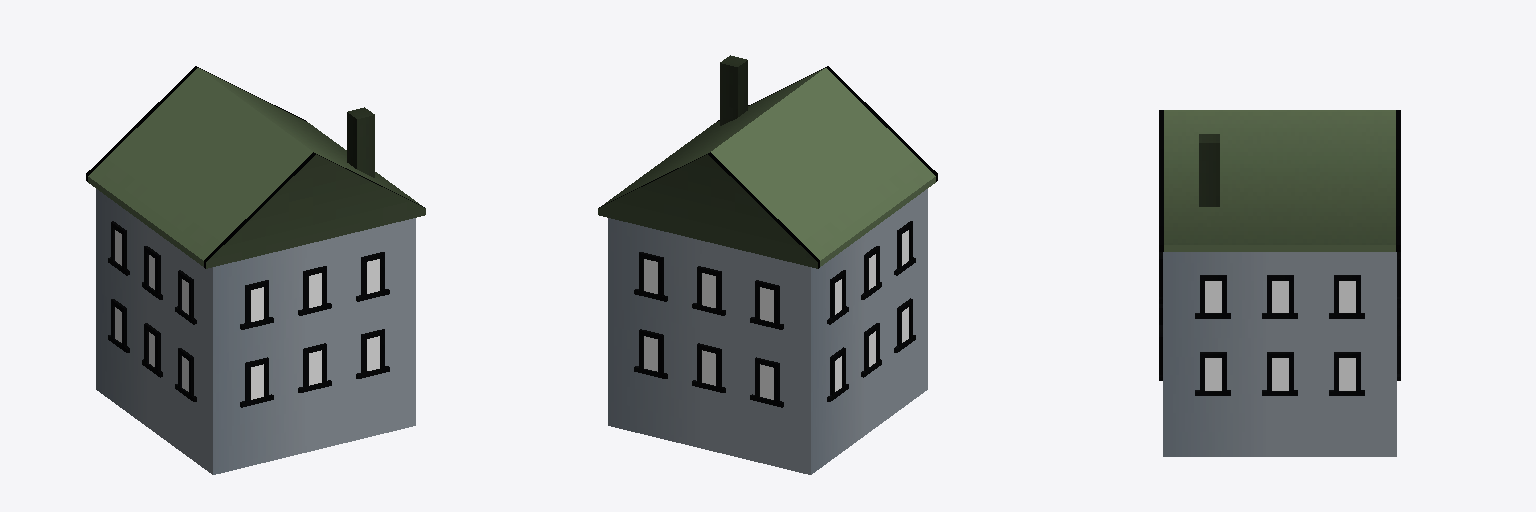
3 views of the same model, side by side, from view 1: azimuth 30°, elevation 25°; view 2: azimuth 150°, elevation 25°; view 3: azimuth 270°, elevation 25° (orthographic).
Visible parts, largest first — view 1: house_4_base_Cube.030, house_4_roof_Cube.029, Cube.017_Cube.020, Cube.009_Cube.005; view 2: house_4_base_Cube.030, house_4_roof_Cube.029, Cube.017_Cube.020, Cube.009_Cube.005; view 3: house_4_base_Cube.030, house_4_roof_Cube.029, Cube.017_Cube.020, Cube.009_Cube.005.
Part boxes in pixels (x1,y1,x2,y2): house_4_base_Cube.030: (96, 189, 415, 474); house_4_roof_Cube.029: (86, 66, 425, 268); Cube.017_Cube.020: (108, 221, 389, 407); Cube.009_Cube.005: (347, 107, 374, 177); house_4_base_Cube.030: (608, 189, 927, 474); house_4_roof_Cube.029: (598, 66, 937, 268); Cube.017_Cube.020: (634, 221, 915, 407); Cube.009_Cube.005: (720, 55, 747, 125); house_4_base_Cube.030: (1163, 252, 1396, 456); house_4_roof_Cube.029: (1159, 110, 1400, 251); Cube.017_Cube.020: (1159, 252, 1400, 395); Cube.009_Cube.005: (1199, 134, 1219, 206).
Bounding box in the file's own units: 1.52 × 2 × 1.44.
1 materials, 1 textured.